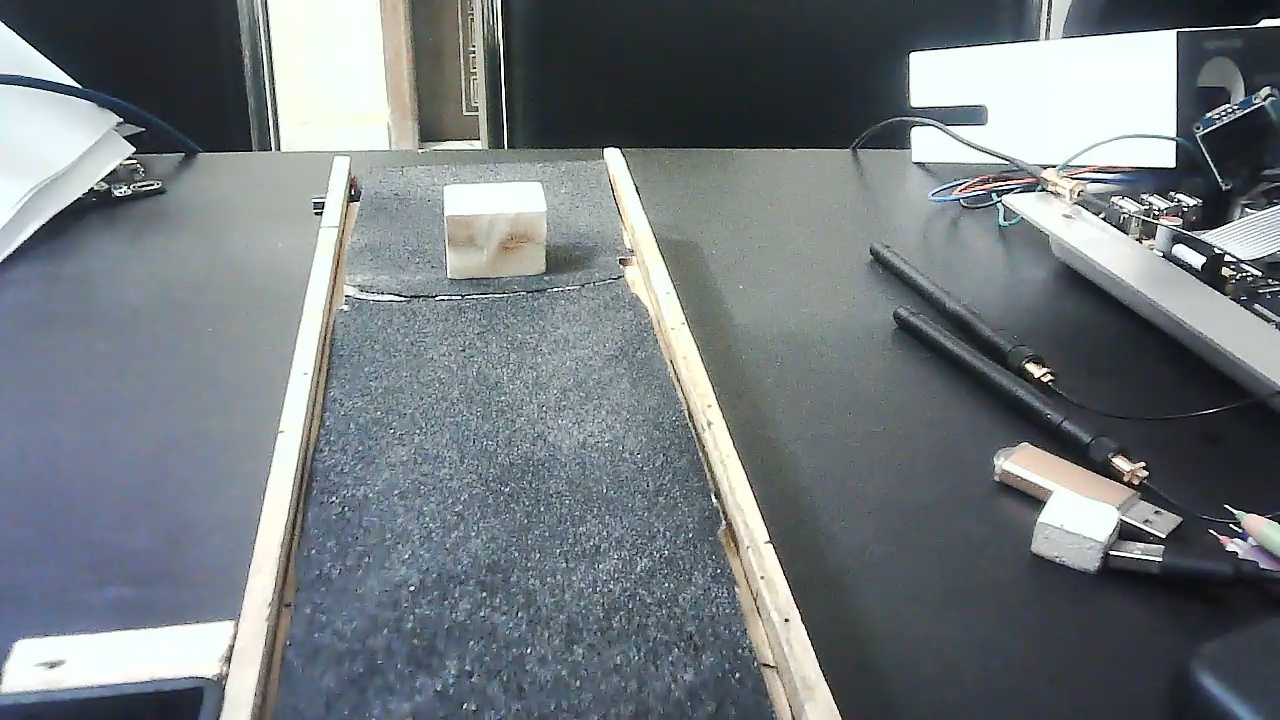Medium: (442, 175, 549, 282)
